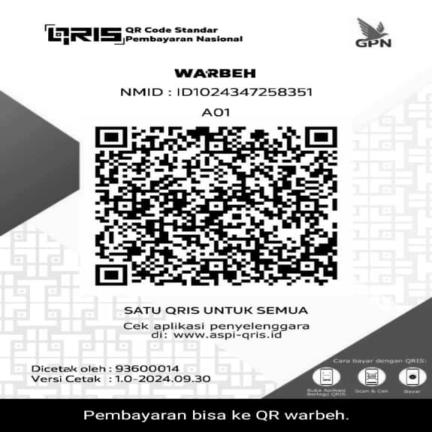Cara Pakai QRIS: (304, 357, 430, 397)
Cek Aplikasi Penyelenggara: (116, 320, 316, 344)
Dicetak Oleh: (19, 362, 184, 373)
Logo GPN: (346, 14, 400, 54)
Logo dan deskripsi QRIS: (34, 21, 251, 49)
Nama Merchant: (167, 66, 262, 81)
National Merchant ID: (112, 85, 322, 99)
QR Code: (85, 121, 350, 289)
Slogan: (115, 303, 317, 318)
Terminal ID: (191, 104, 243, 119)
Versi Cetak: (19, 374, 213, 384)
